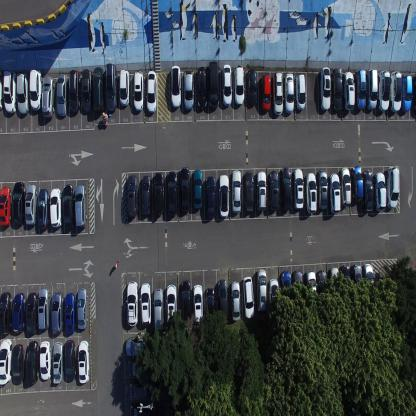car: (25, 340, 39, 386), (74, 183, 88, 228), (12, 181, 26, 226), (126, 280, 139, 327), (41, 75, 55, 118), (3, 69, 16, 115), (24, 184, 38, 226), (0, 338, 12, 387), (16, 70, 29, 115), (92, 66, 104, 114), (342, 70, 356, 111), (242, 275, 255, 319), (386, 166, 399, 210), (37, 286, 50, 330), (280, 165, 292, 212), (62, 183, 74, 230), (29, 68, 42, 111), (179, 166, 191, 212), (292, 166, 304, 212), (304, 172, 317, 214), (12, 291, 25, 333), (319, 66, 331, 111), (272, 71, 284, 116), (78, 340, 90, 385), (51, 290, 63, 335), (208, 60, 219, 109), (106, 63, 117, 112), (378, 68, 390, 112), (366, 68, 378, 112), (56, 73, 68, 117), (126, 174, 138, 218), (52, 341, 64, 385), (11, 344, 24, 384), (329, 171, 341, 214), (355, 68, 367, 111), (68, 70, 80, 113), (37, 187, 49, 230), (76, 287, 88, 330), (64, 292, 76, 335), (205, 174, 216, 220), (0, 290, 11, 336), (180, 280, 192, 322), (268, 169, 280, 211), (390, 70, 402, 112), (317, 269, 329, 311), (64, 340, 76, 382), (218, 174, 229, 219), (217, 278, 228, 323), (153, 286, 164, 331), (140, 281, 151, 326), (153, 171, 164, 216), (351, 164, 364, 202), (125, 337, 151, 356), (127, 358, 153, 377), (128, 381, 154, 400), (49, 187, 61, 228), (351, 263, 363, 304), (231, 170, 242, 214), (256, 268, 267, 312), (166, 283, 177, 327), (317, 168, 328, 212), (363, 168, 374, 212), (26, 291, 37, 335), (340, 166, 352, 206), (374, 171, 386, 211), (39, 340, 51, 380), (268, 278, 279, 321), (192, 283, 203, 326), (183, 68, 194, 111), (170, 64, 181, 107), (146, 70, 157, 113), (306, 269, 317, 312), (230, 279, 241, 321), (292, 269, 303, 311), (0, 186, 11, 227), (363, 262, 374, 303), (244, 170, 254, 215), (167, 171, 177, 216), (332, 67, 342, 111), (222, 63, 232, 107), (197, 66, 207, 110), (133, 68, 143, 112), (81, 68, 91, 112), (280, 271, 291, 311), (140, 174, 150, 217), (256, 170, 266, 212), (284, 72, 294, 114), (234, 64, 244, 106), (330, 266, 340, 308), (341, 264, 351, 306), (193, 169, 203, 210), (261, 72, 271, 113), (295, 73, 306, 110), (206, 287, 216, 327), (247, 67, 257, 105), (119, 68, 129, 106), (402, 74, 412, 111), (129, 403, 155, 415), (413, 77, 416, 116), (0, 70, 2, 112)
